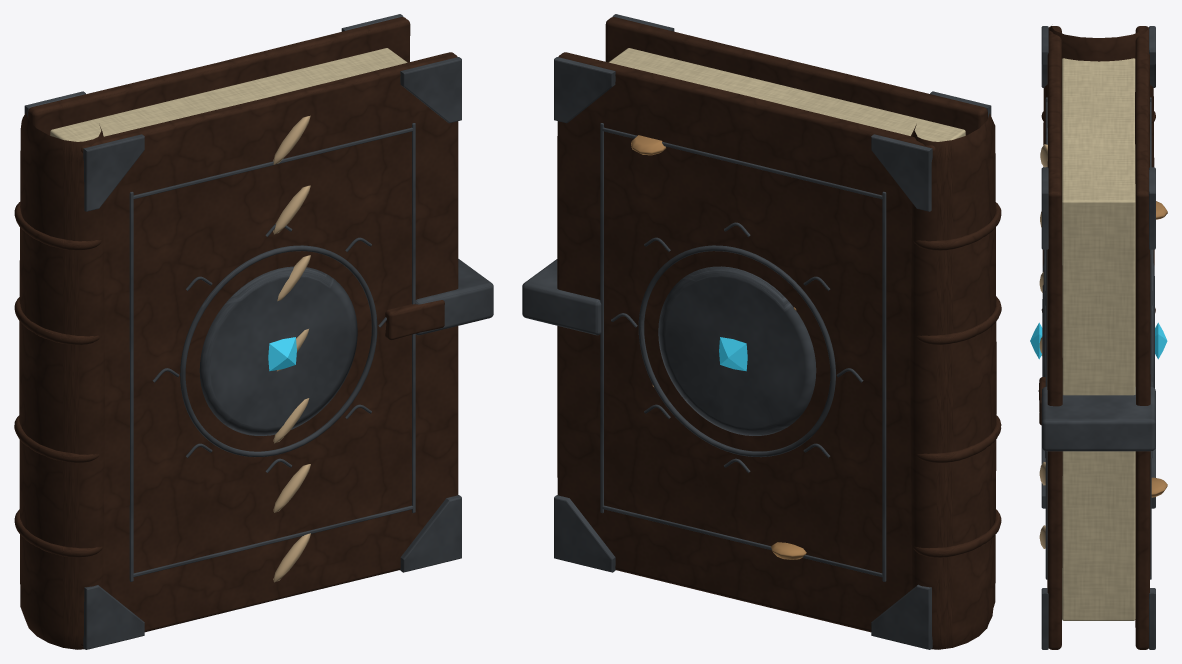
The model's file is grimoire.glb.
3 views of the same model, side by side, from view 1: azimuth 30°, elevation 25°; view 2: azimuth 150°, elevation 25°; view 3: azimuth 270°, elevation 25° (orthographic). The views are drawn at different scales.
Visible parts, largest first — view 1: leather / oiled leather wrap, darksteel / oil-blackened fittings, paper / paper and vellum, thread loop, crystal / faceted crystal; view 2: leather / oiled leather wrap, darksteel / oil-blackened fittings, paper / paper and vellum, peened pin, crystal / faceted crystal; view 3: paper / paper and vellum, leather / oiled leather wrap, darksteel / oil-blackened fittings, crystal / faceted crystal, thread loop, peened pin.
Part boxes in pixels (x1,y1,x2,y2): leather / oiled leather wrap: [14, 17, 458, 649]; darksteel / oil-blackened fittings: [24, 14, 493, 649]; paper / paper and vellum: [50, 48, 407, 141]; thread loop: [273, 115, 310, 582]; crystal / faceted crystal: [268, 337, 296, 371]; leather / oiled leather wrap: [557, 17, 1001, 649]; darksteel / oil-blackened fittings: [522, 14, 991, 649]; paper / paper and vellum: [609, 48, 965, 141]; peened pin: [631, 135, 806, 559]; crystal / faceted crystal: [719, 337, 747, 371]; paper / paper and vellum: [1062, 58, 1135, 620]; leather / oiled leather wrap: [1038, 26, 1155, 649]; darksteel / oil-blackened fittings: [1041, 26, 1155, 649]; crystal / faceted crystal: [1030, 322, 1167, 359]; thread loop: [1039, 144, 1047, 548]; peened pin: [1151, 201, 1167, 497].
Bounding box in the file's own units: 0.3877 × 0.43 × 0.1159.
Materials: 6 (3 with a texture image).
